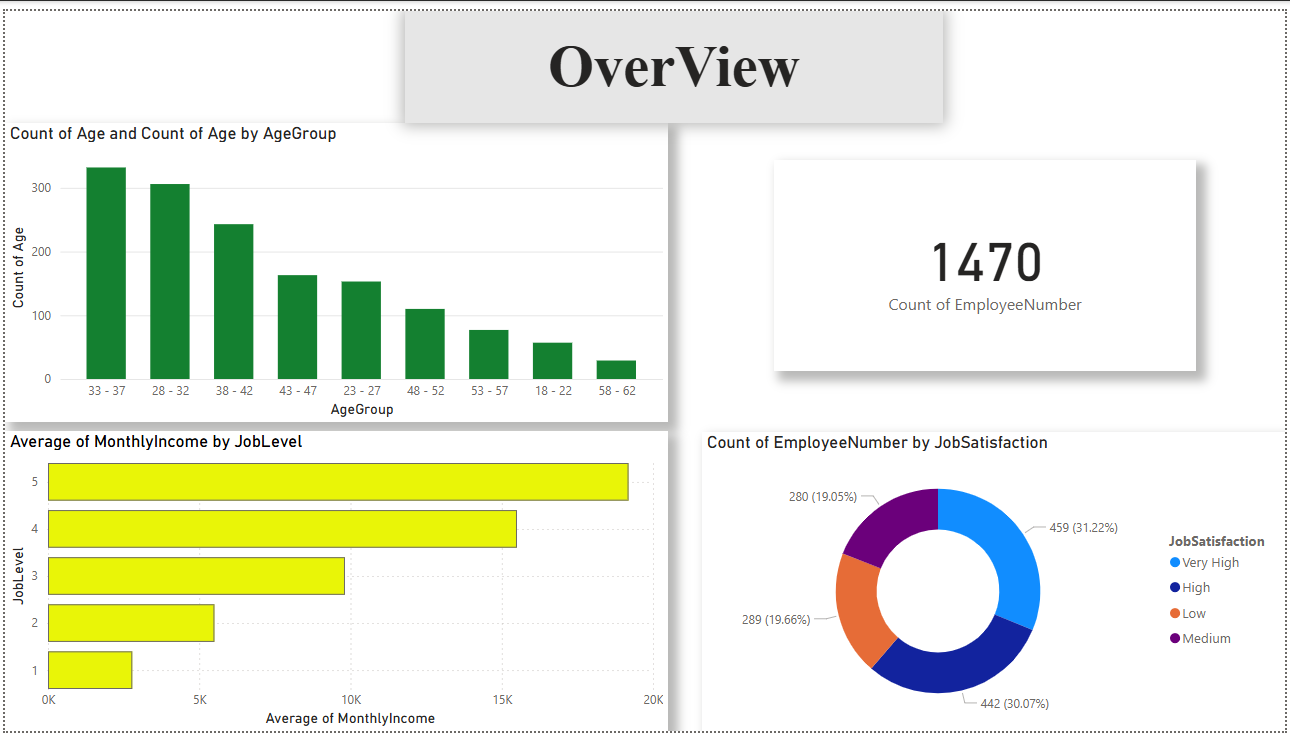

The page's visual inventory and layout, read from the dashboard file:
{"tool":"powerbi","page":{"name":"Overview","canvas":[1280,720],"ordinal":0},"visuals":[{"type":"columnChart","fields":{"Category":["WA_Fn-UseC_-HR-Employee-Attrition.AgeGroup"],"Y":["CountNonNull(WA_Fn-UseC_-HR-Employee-Attrition.Age)","CountNonNull(WA_Fn-UseC_-HR-Employee-Attrition.Age)"]},"box":[663.3,133.3,603,273.3],"z":0},{"type":"card","fields":{"Values":["CountNonNull(WA_Fn-UseC_-HR-Employee-Attrition.EmployeeNumber)"]},"box":[79.8,167.3,468.8,183.8],"z":1000},{"type":"clusteredBarChart","fields":{"Category":["WA_Fn-UseC_-HR-Employee-Attrition.JobLevel"],"Y":["Avg(WA_Fn-UseC_-HR-Employee-Attrition.MonthlyIncome)"]},"box":[8,420,632,300],"z":2000},{"type":"donutChart","fields":{"Category":["WA_Fn-UseC_-HR-Employee-Attrition.JobSatisfaction"],"Y":["CountNonNull(WA_Fn-UseC_-HR-Employee-Attrition.EmployeeNumber)"]},"box":[671.1,429.9,595.3,289.8],"z":3000},{"type":"textbox","box":[406.6,1,581.6,120.6],"z":4000}]}

Visuals, with their boxes in screenshot pixels (x1, y1, x2, y2), scaled from the page's 1280x720 canvas onto the 1290x746 screenshot:
columnChart - WA_Fn-UseC_-HR-Employee-Attrition.AgeGroup x CountNonNull(WA_Fn-UseC_-HR-Employee-Attrition.Age): 668/138/1276/421
card - CountNonNull(WA_Fn-UseC_-HR-Employee-Attrition.EmployeeNumber): 80/173/553/364
clusteredBarChart - WA_Fn-UseC_-HR-Employee-Attrition.JobLevel x Avg(WA_Fn-UseC_-HR-Employee-Attrition.MonthlyIncome): 8/435/645/745
donutChart - WA_Fn-UseC_-HR-Employee-Attrition.JobSatisfaction x CountNonNull(WA_Fn-UseC_-HR-Employee-Attrition.EmployeeNumber): 676/445/1276/745
textbox: 410/1/996/126
